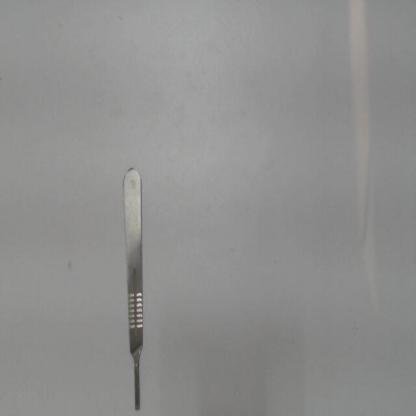No.4 BP Handle: (118, 163, 148, 413)
